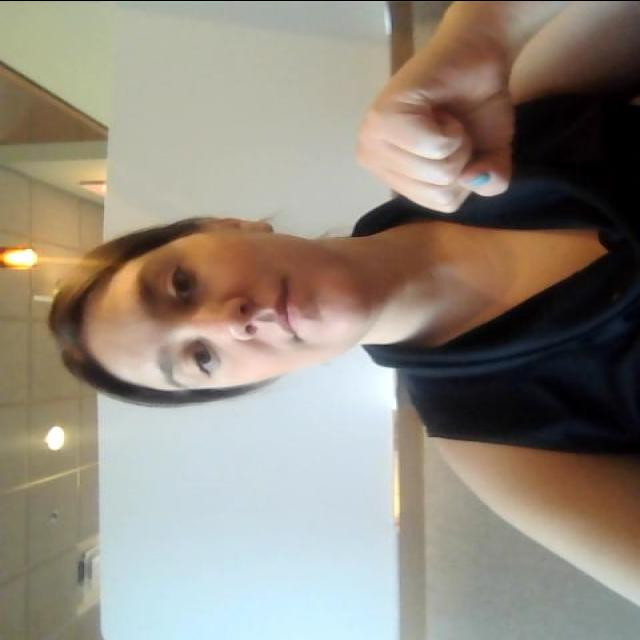Rock: (326, 30, 548, 230)
